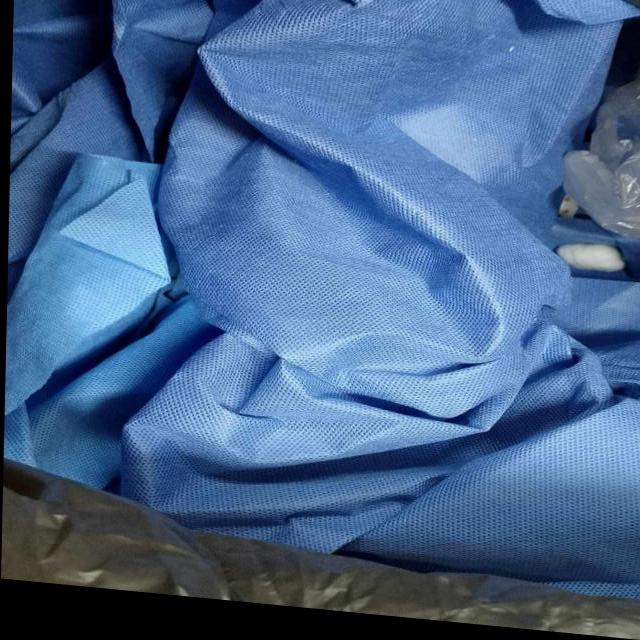General: (6, 2, 639, 607)
Sharps: (554, 243, 626, 274)
